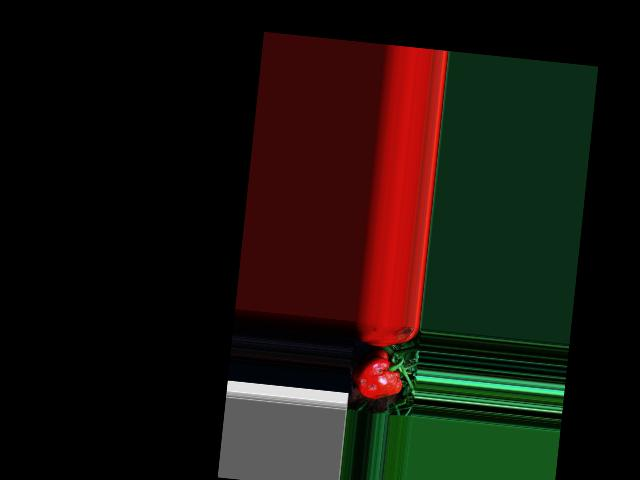bell_pepper: (347, 346, 410, 399)
